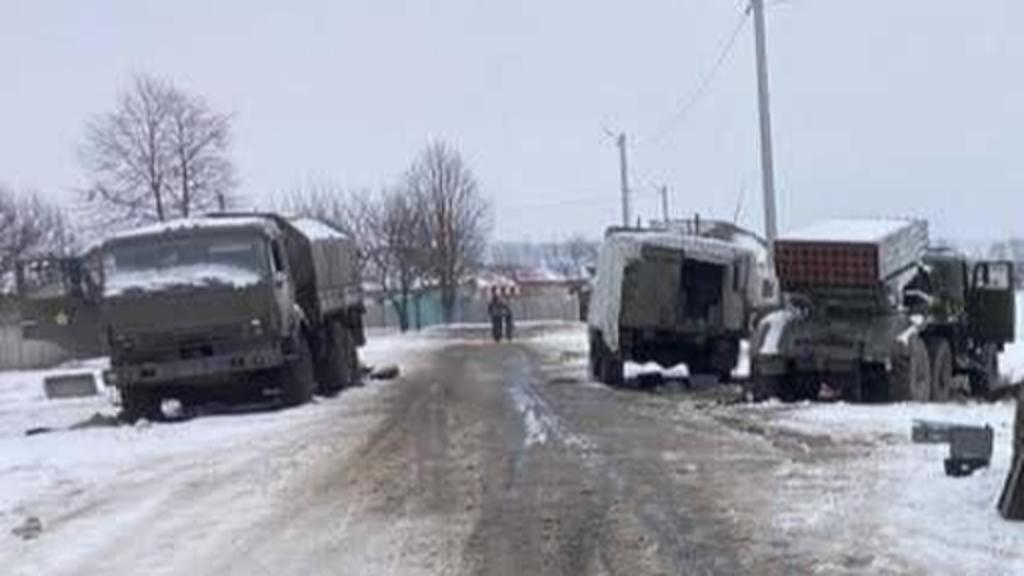MLRS: (746, 214, 1002, 404)
TRUCK: (90, 200, 370, 422), (572, 222, 742, 398)
